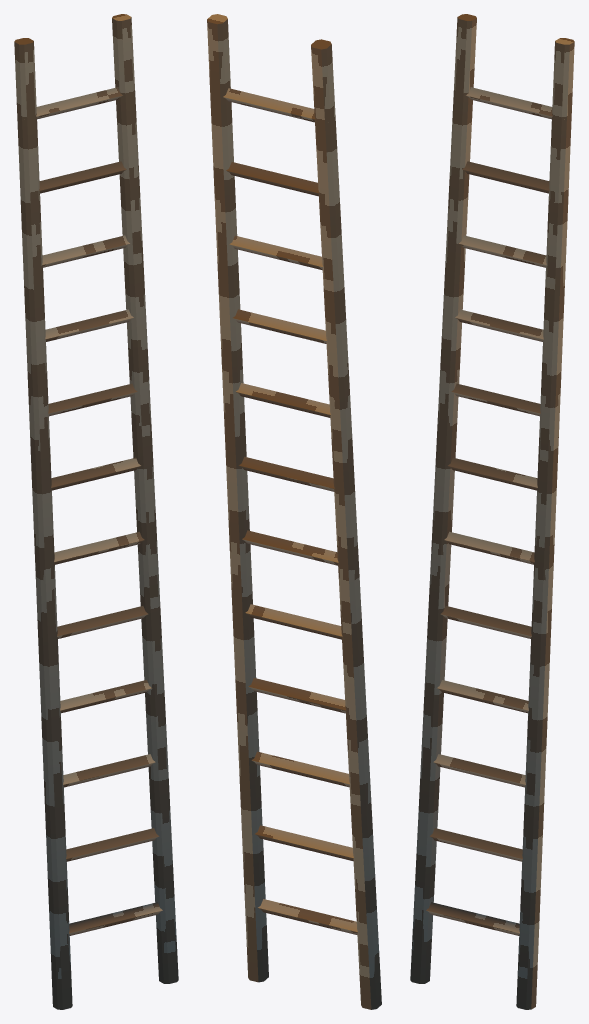
File: wmine.ladder__tall.glb
3 renders of one model, left to right at view 1: azimuth 30°, elevation 25°; view 2: azimuth 150°, elevation 25°; view 3: azimuth 330°, elevation 25°, orthographic. The views are drawn at different scales.
Visible parts, largest first — view 1: kit_poles, kit_rungs; view 2: kit_poles, kit_rungs; view 3: kit_poles, kit_rungs.
Boxes of the visible parts, x1,y1,x2,y2 form: kit_poles: (14, 14, 178, 1009); kit_rungs: (24, 87, 162, 935); kit_poles: (207, 14, 381, 1009); kit_rungs: (223, 88, 357, 934); kit_poles: (410, 14, 574, 1009); kit_rungs: (426, 87, 564, 935).
Size of the model in its own units: 0.57 by 4.21 by 0.4198.
Materials: 2 (2 with a texture image).
